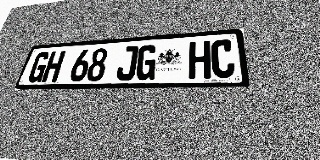6: (68, 49, 93, 82)
8: (85, 48, 110, 81)
C: (211, 39, 236, 78)
G: (135, 44, 158, 80), (26, 52, 51, 83)
H: (189, 41, 211, 79), (41, 51, 66, 82)
J: (115, 46, 139, 81)
